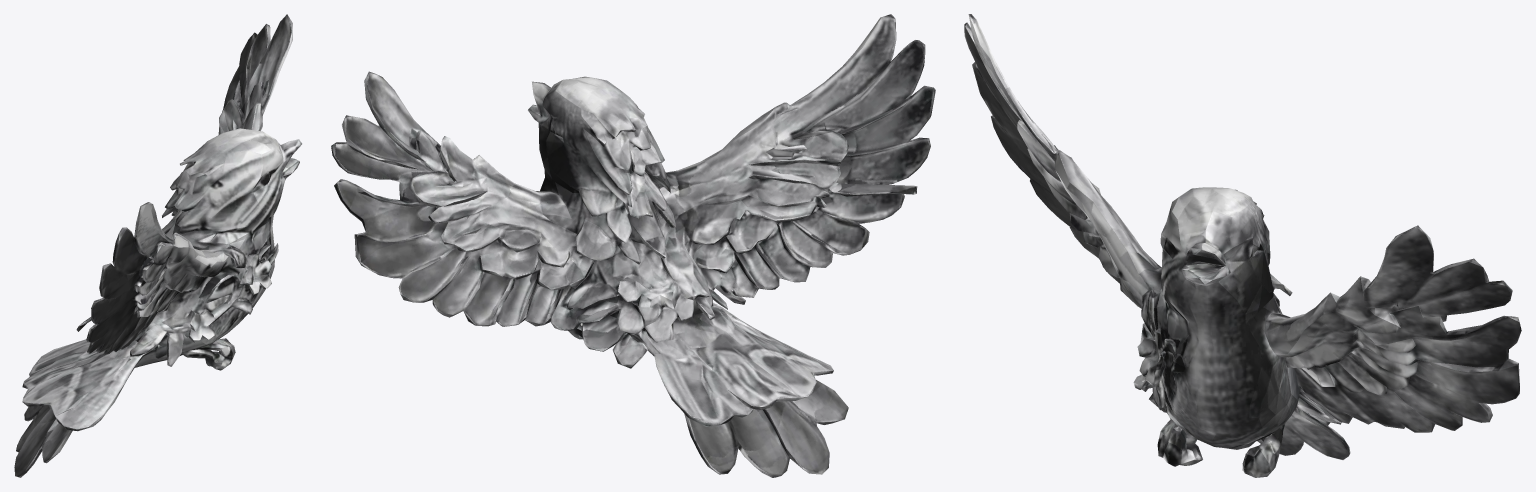
Rendered from bird-silver.glb.
The picture shows the model from 3 angles, left to right: view 1: azimuth 30°, elevation 25°; view 2: azimuth 150°, elevation 25°; view 3: azimuth 270°, elevation 25°; orthographic projection. The views are drawn at different scales.
Visible parts, largest first — view 1: geometry_0; view 2: geometry_0; view 3: geometry_0.
Boxes of the visible parts, box(x1,y1,x2,y2) form: geometry_0: box(14, 14, 302, 477); geometry_0: box(331, 14, 935, 477); geometry_0: box(964, 14, 1521, 477).
Size of the model in its own units: 0.1994 by 0.1811 by 0.2.
1 material, 1 textured.
